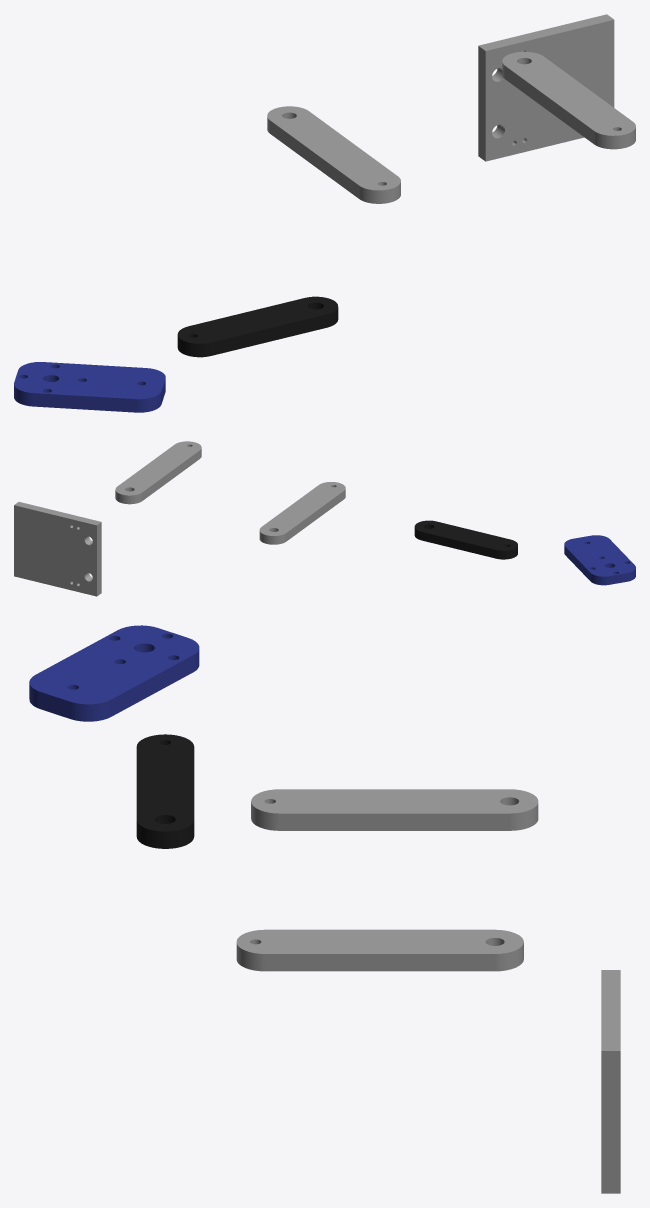
Rendered from laserCut v11.fbx.
3 views of the same model, one above another, from view 1: azimuth 30°, elevation 25°; view 2: azimuth 150°, elevation 25°; view 3: azimuth 270°, elevation 25° (orthographic). The views are drawn at different scales.
Parts seen in each view (by area): view 1: Body1 (×5); view 2: Body1 (×5); view 3: Body1 (×5).
Part boxes in pixels (<box>): Body1 (×5): <box>14,14,635,412</box>; Body1 (×5): <box>14,441,635,596</box>; Body1 (×5): <box>29,625,620,1193</box>.
Bounding box in the file's own units: 603 × 97.41 × 309.
